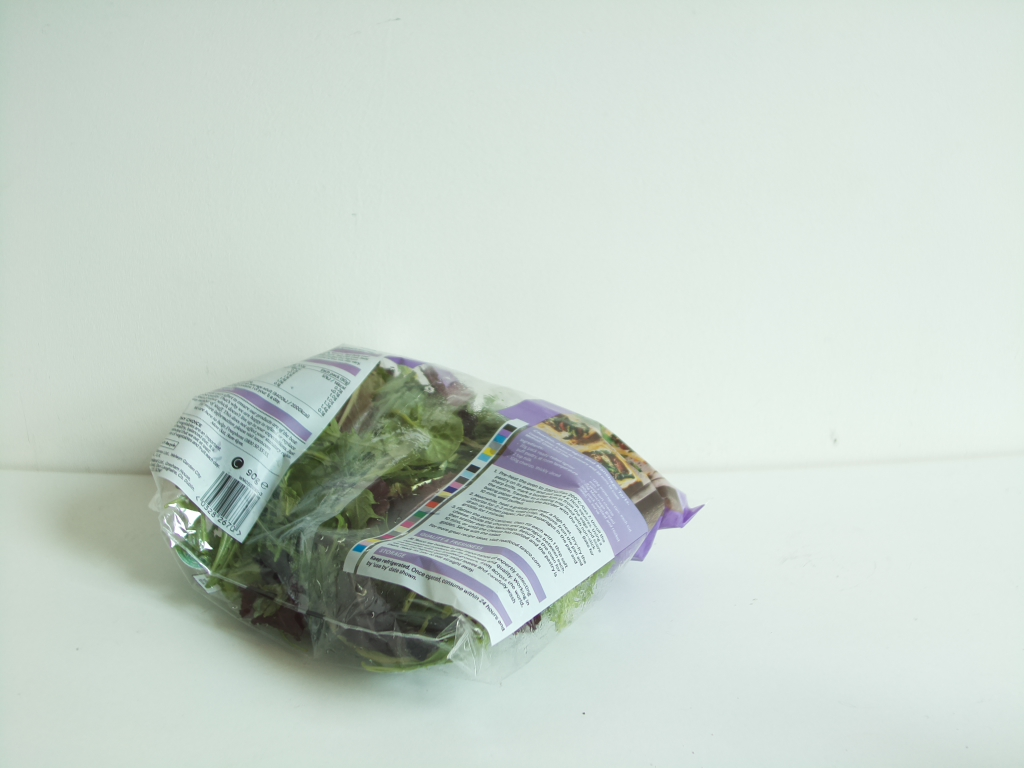salad: (149, 352, 696, 694)
